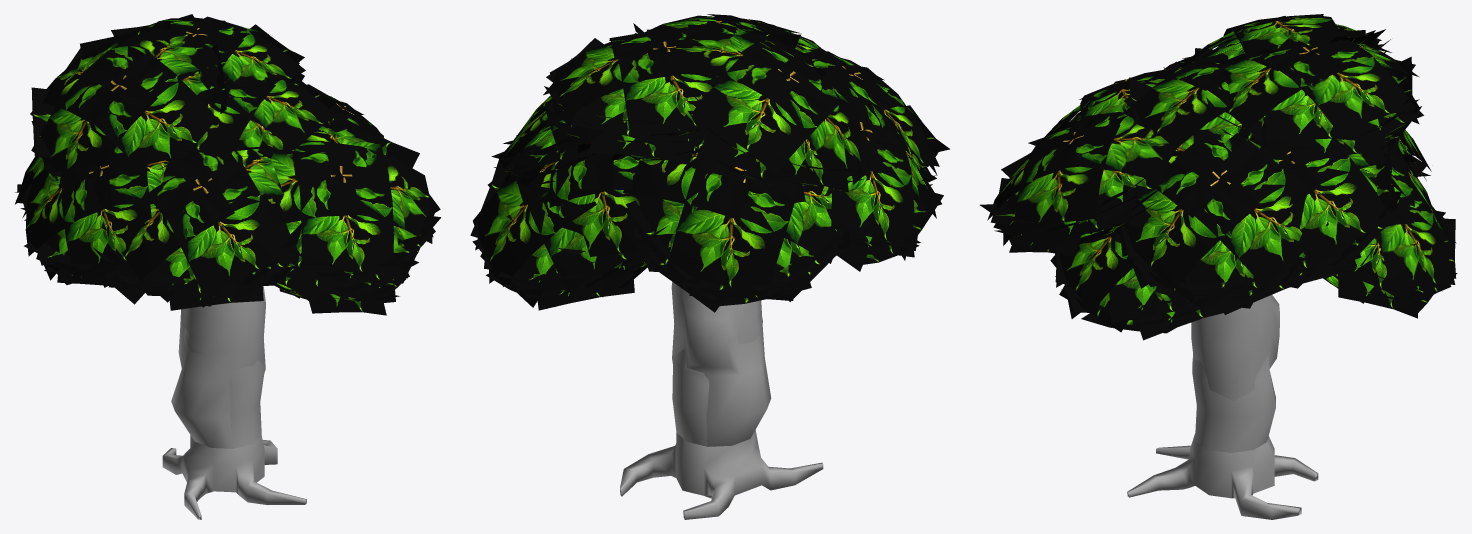
The model's file is Arbol.fbx.
The picture shows the model from 3 angles, left to right: view 1: azimuth 30°, elevation 25°; view 2: azimuth 150°, elevation 25°; view 3: azimuth 270°, elevation 25°; orthographic projection. The views are drawn at different scales.
Visible parts, largest first — view 1: Plantas2, Plantas1, Tronco2, Base1, Tronco1; view 2: Plantas1, Plantas2, Tronco2, Base1, Tronco1; view 3: Plantas2, Plantas1, Base1, Tronco2, Tronco1.
Part boxes in pixels (x1,y1,x2,y2): Plantas2: (15,77,440,310); Plantas1: (30,14,409,315); Tronco2: (171,286,265,448); Base1: (162,435,306,519); Tronco1: (183,327,264,448); Plantas1: (470,26,936,310); Plantas2: (503,14,949,312); Tronco2: (671,282,771,446); Base1: (620,430,823,519); Tronco1: (672,312,762,446); Plantas2: (980,48,1445,314); Plantas1: (1050,14,1457,340); Base1: (1127,433,1318,519); Tronco2: (1191,295,1279,400); Tronco1: (1192,354,1275,452).
Size of the model in its own units: 11.64 by 13.09 by 12.69.
